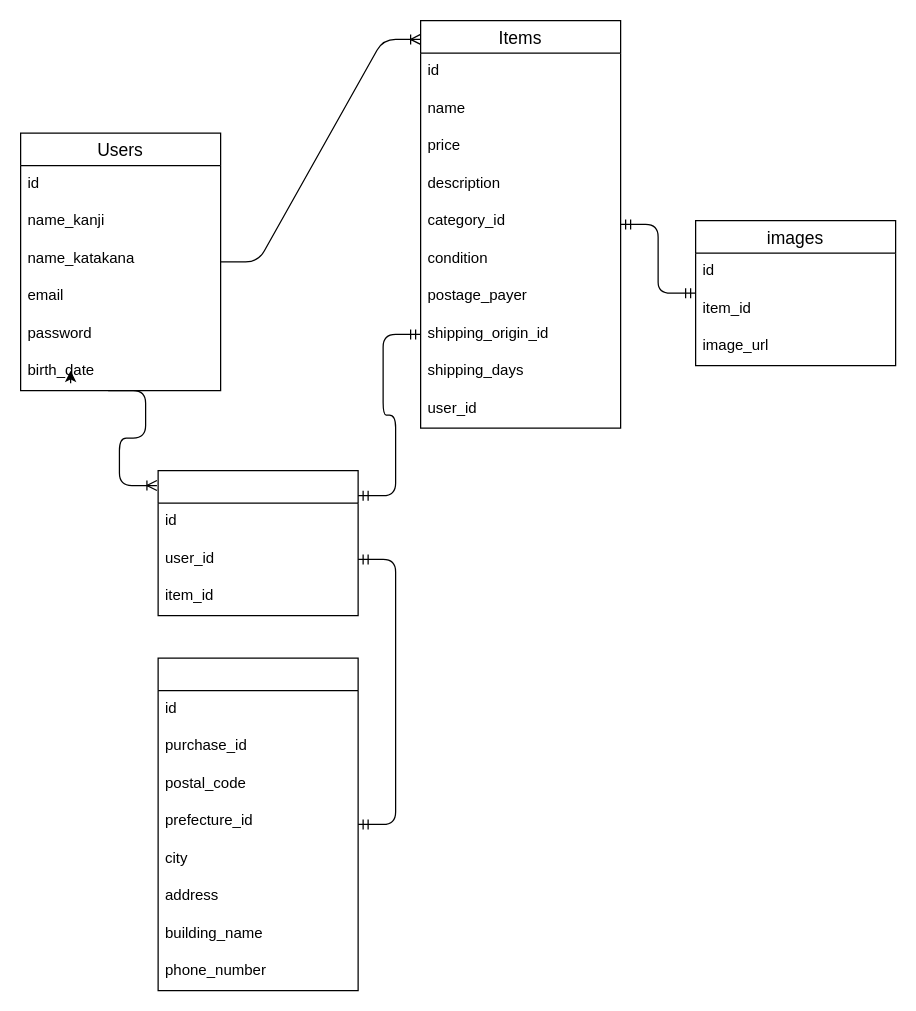
This 916x1011 diagram has some shape labels left out. The box of each missing label's shape, as (x1, y1, x2, y2) in pixels:
Purchases: (157, 469, 358, 616)
shipments: (157, 657, 358, 991)
